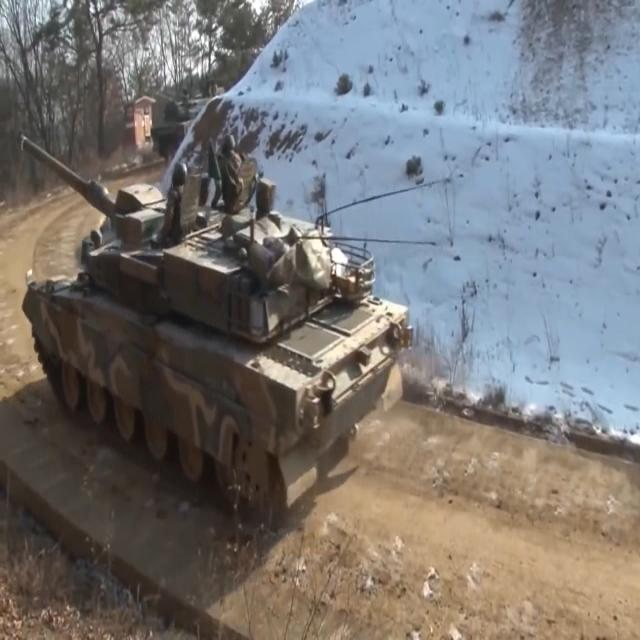korea tank: (17, 131, 415, 526)
